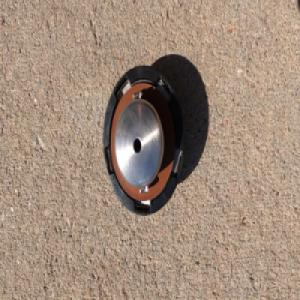FuelCap: (101, 63, 186, 217)
